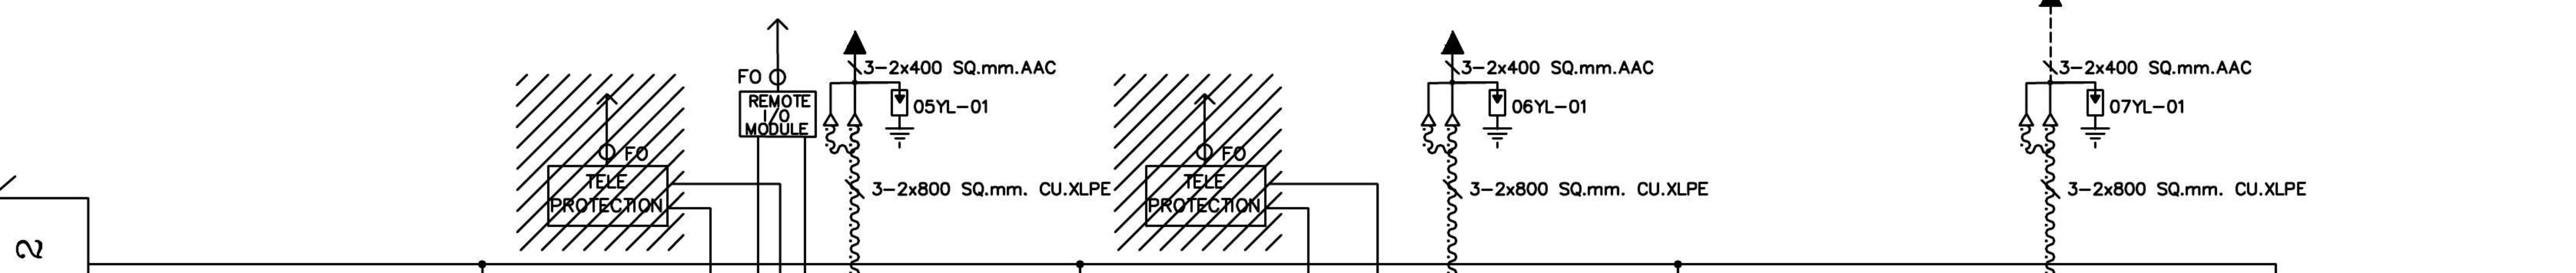115_la: (2080, 87, 2111, 150), (1482, 87, 1513, 150), (884, 87, 915, 150)
remote_io_module: (738, 89, 818, 140)
tele_protection: (545, 163, 670, 230), (1143, 163, 1268, 229)
terminator_double: (821, 81, 864, 128), (1419, 81, 1462, 128), (2017, 81, 2060, 128)
